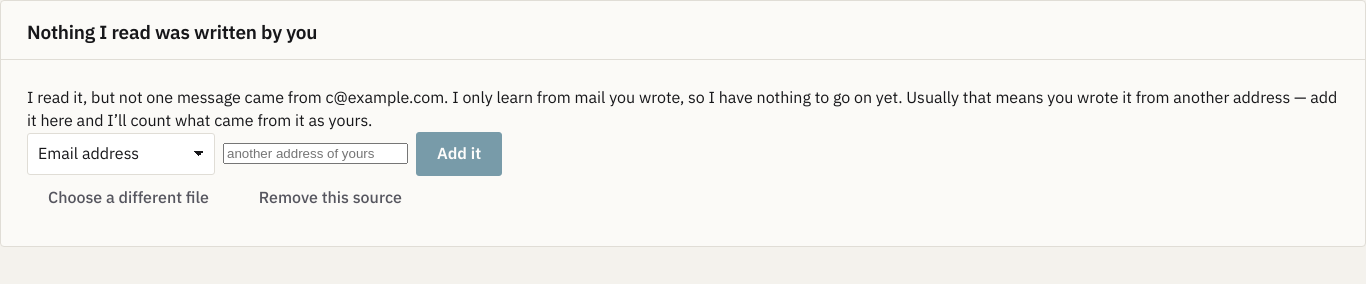
Test: when nothing read was the user's, adding the address is the fix › adds an address nothing was filed under straight away, and says nothing came from it
This screenshot has width=1366, height=284.
Expected: the heading "Nothing I read was written by you" is shown, left=27, top=19, right=317, bottom=46
Type "typo@example.com" into the field labelled "another address of yours" at (316, 154), box left=223, top=143, right=408, bottom=164
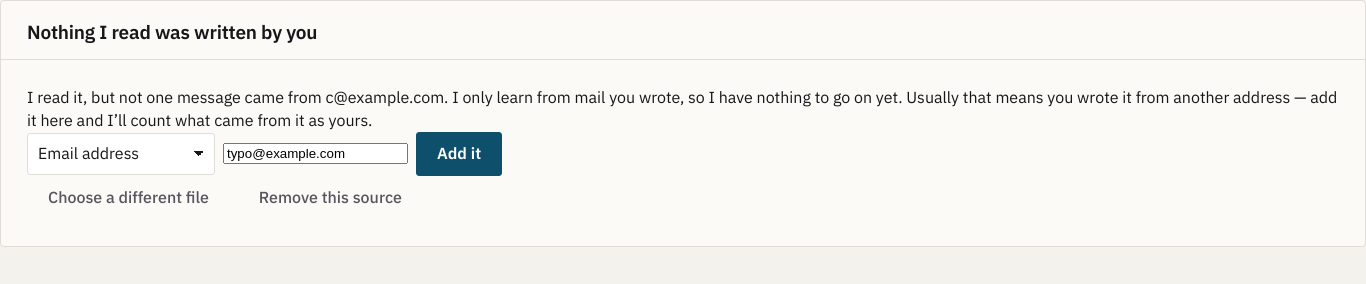
Click the button "Add it" at (459, 154), box left=416, top=132, right=502, bottom=176
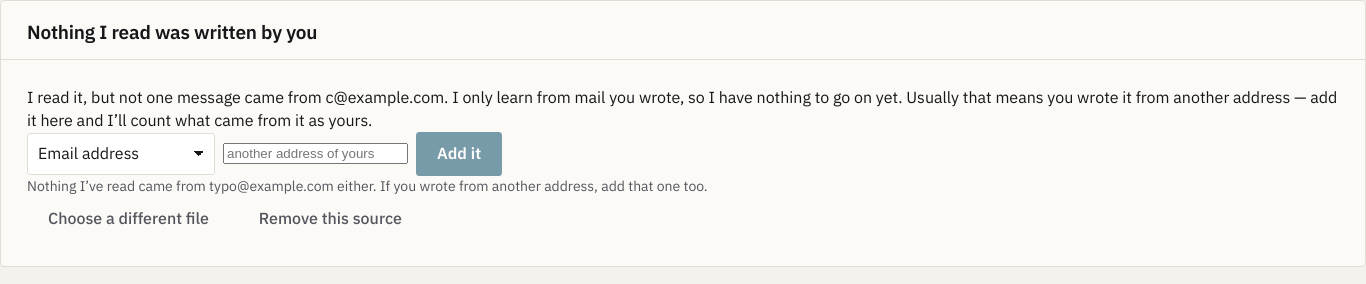
Result: the text "Nothing I.ve read came from typo@example.com either." is shown at left=27, top=177, right=708, bottom=195
